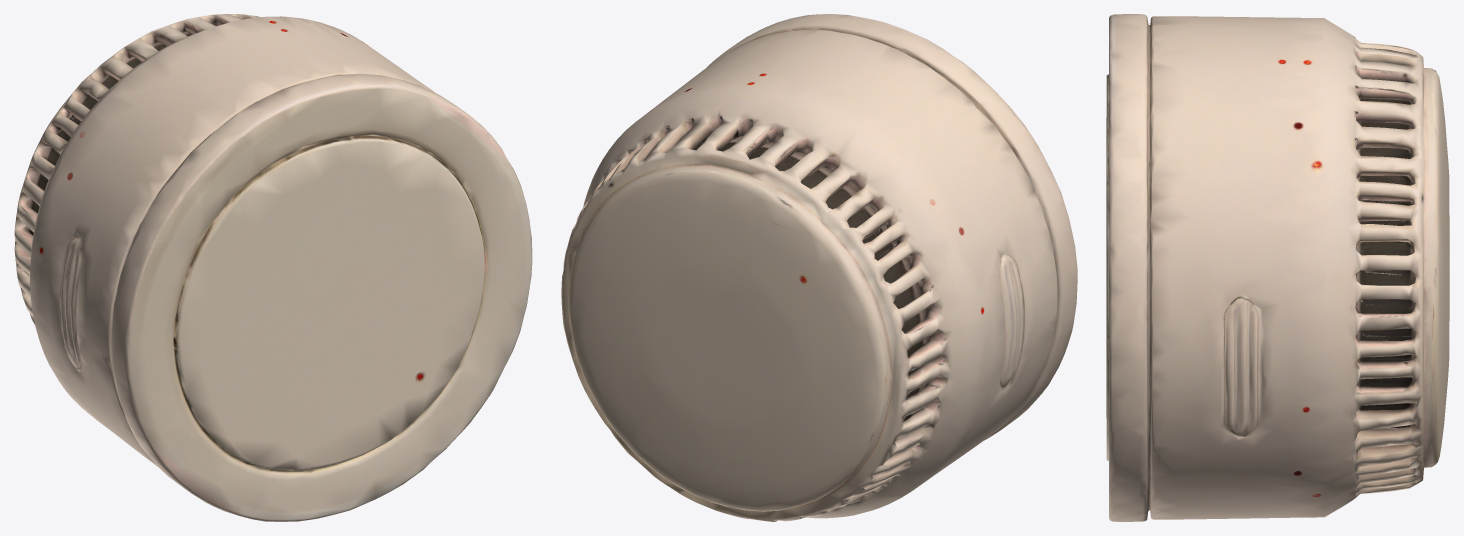
Rendered from americio_antes.fbx.
3 views of the same model, side by side, from view 1: azimuth 30°, elevation 25°; view 2: azimuth 150°, elevation 25°; view 3: azimuth 270°, elevation 25° (orthographic). The views are drawn at different scales.
Visible parts, largest first — view 1: Mesh_0.012; view 2: Mesh_0.012; view 3: Mesh_0.012.
Boxes of the visible parts, x1,y1,x2,y2 form: Mesh_0.012: [14, 14, 532, 521]; Mesh_0.012: [561, 14, 1077, 521]; Mesh_0.012: [1106, 14, 1449, 521].
Bounding box in the file's own units: 0.4144 × 0.4147 × 0.2804.
1 material, 1 textured.
